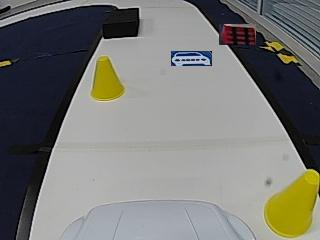block: (102, 7, 138, 38)
cone: (263, 169, 319, 237), (90, 56, 125, 101)
